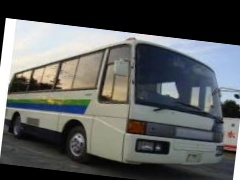bus: (0, 21, 235, 180)
